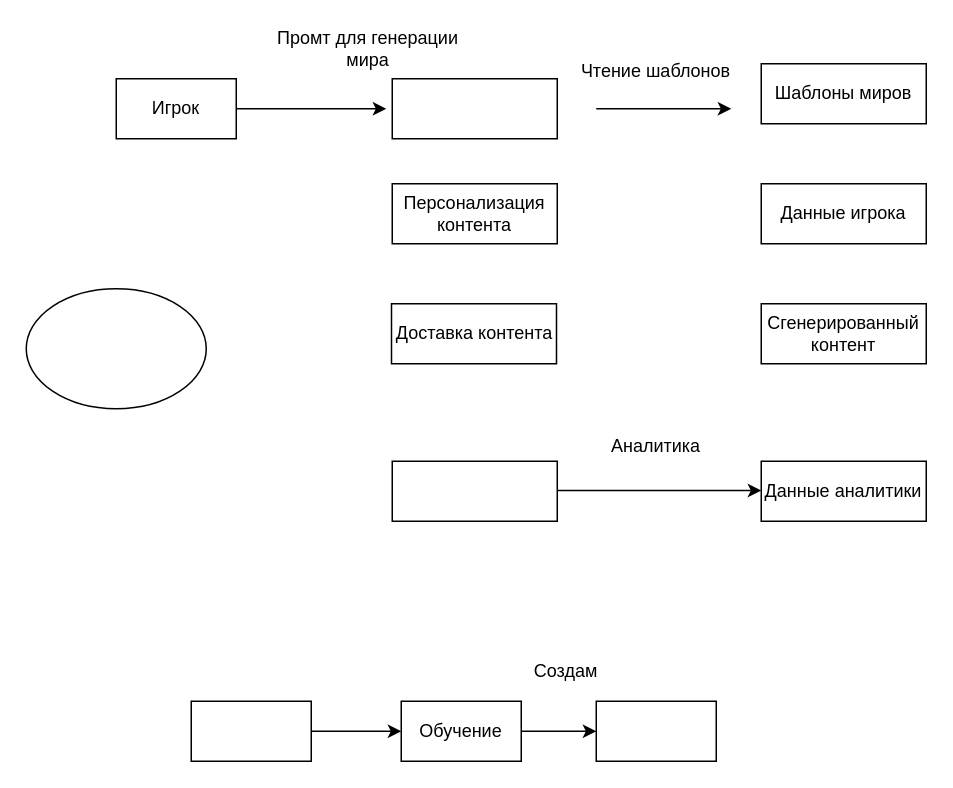
Image size: 953x788. Some labels were removed from this diagram. Each missing label, with the box of its shape:
Генерация игрового мира: (391, 77, 557, 139)
Дата сеты: (190, 700, 311, 761)
Контент: (595, 700, 716, 761)
Обработка обратной связи: (391, 460, 557, 521)
